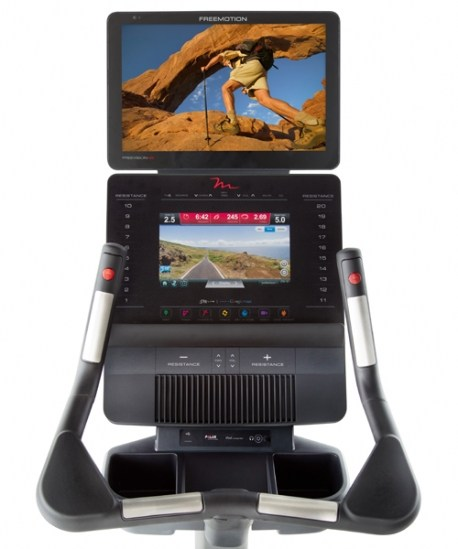gym_bike: (47, 12, 431, 541)
